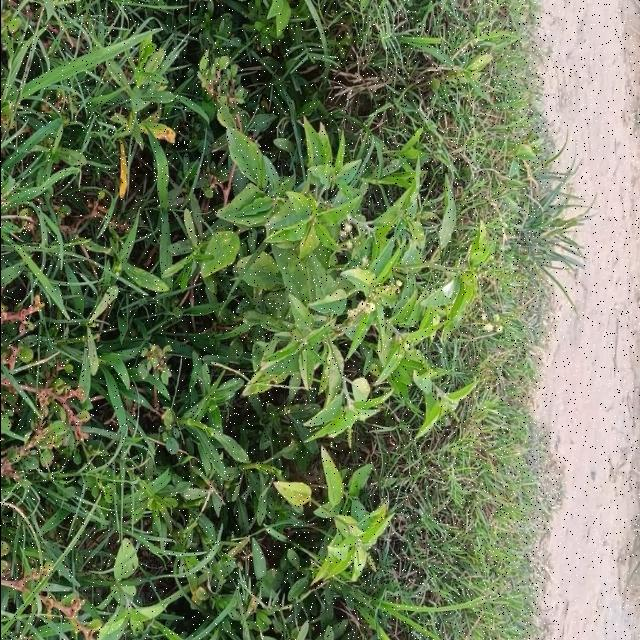weed: (169, 118, 491, 443), (272, 449, 390, 585)
